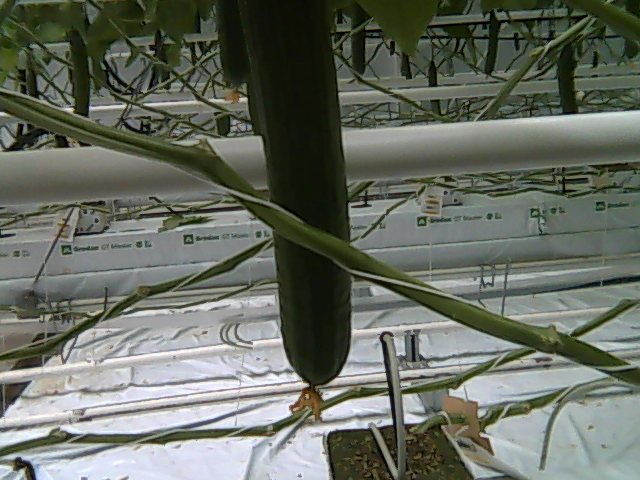concombre: (235, 1, 355, 424)
